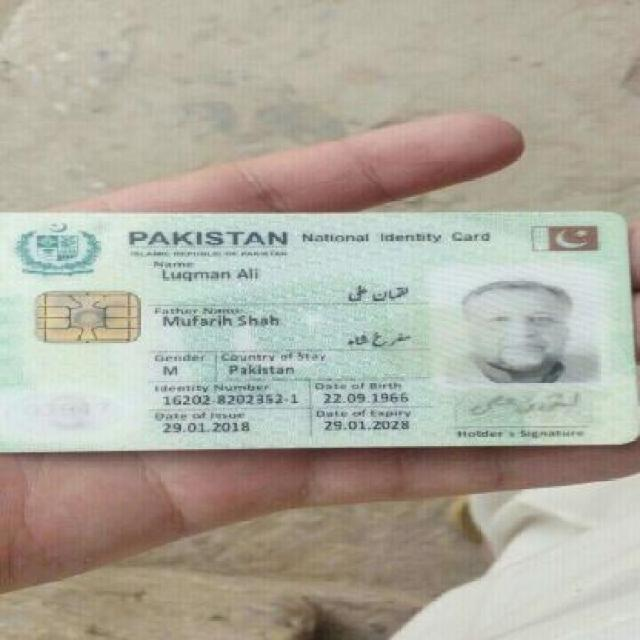Front: (3, 212, 632, 450)
